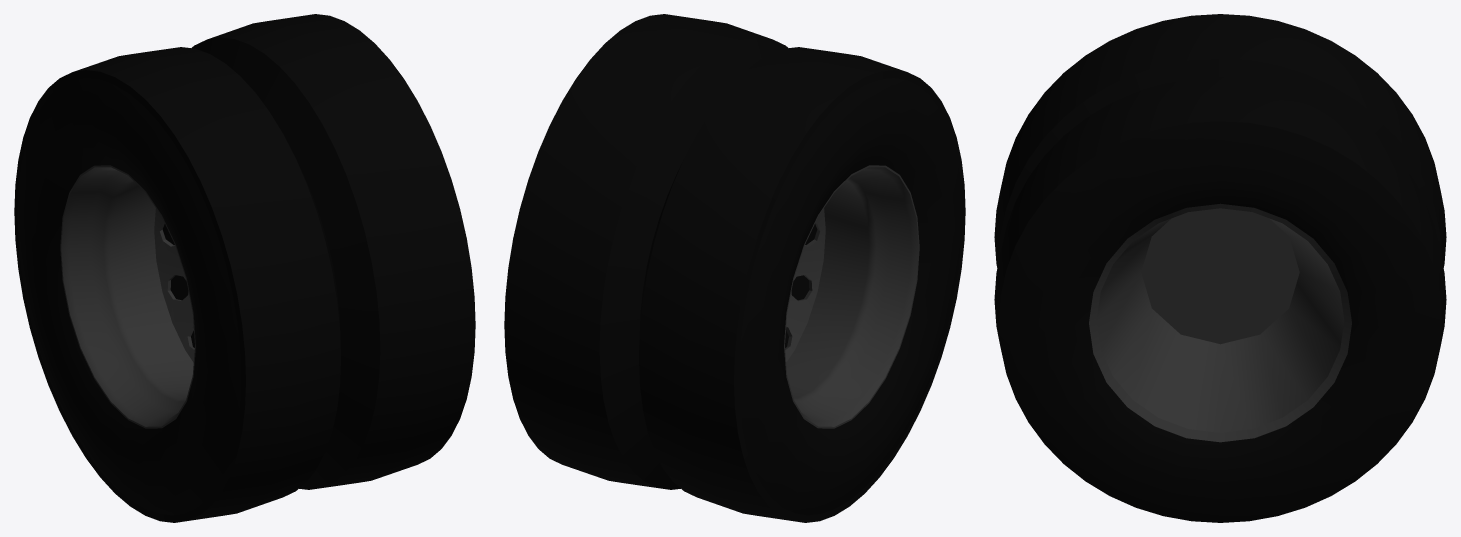
The model's file is Wheel_R_Semi.glb.
The picture shows the model from 3 angles, left to right: view 1: azimuth 30°, elevation 25°; view 2: azimuth 150°, elevation 25°; view 3: azimuth 270°, elevation 25°; orthographic projection. The views are drawn at different scales.
Parts seen in each view (by area): view 1: Wheel_Semi_R; view 2: Wheel_Semi_R; view 3: Wheel_Semi_R.
Part boxes in pixels (bbox=[...]): Wheel_Semi_R: bbox=[14, 14, 475, 522]; Wheel_Semi_R: bbox=[504, 14, 965, 522]; Wheel_Semi_R: bbox=[994, 14, 1446, 522].
Bounding box in the file's own units: 0.6469 × 1.02 × 1.02.
2 materials, 1 textured.
